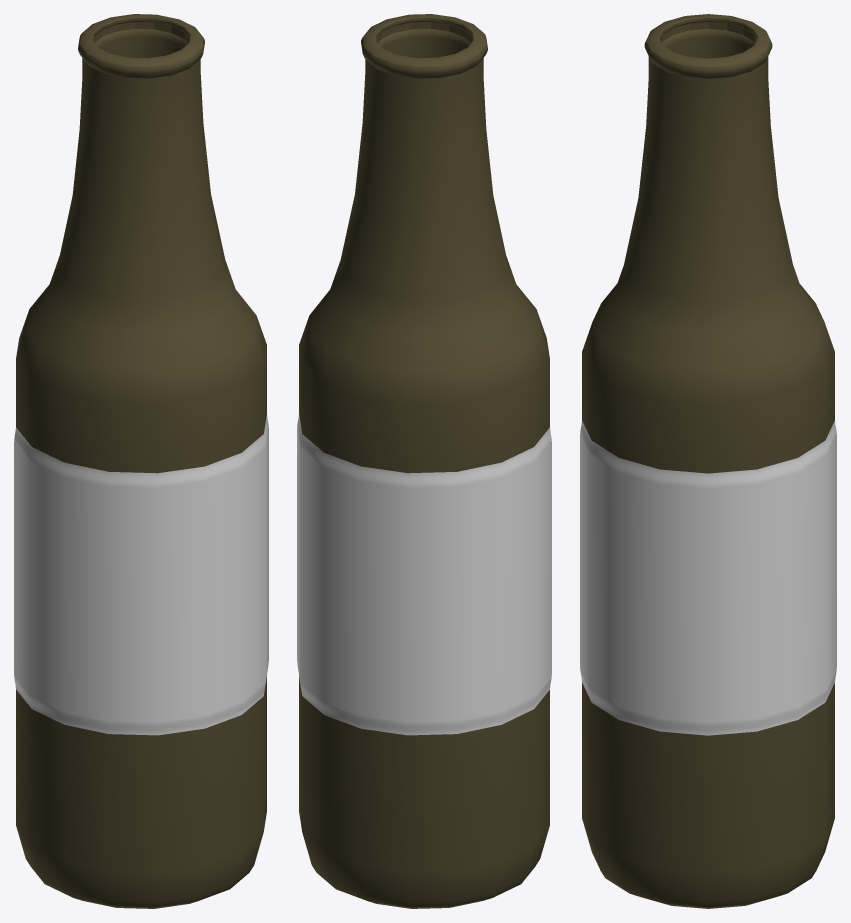
Rendered from Brown Bottle.fbx.
3 views of the same model, side by side, from view 1: azimuth 30°, elevation 25°; view 2: azimuth 150°, elevation 25°; view 3: azimuth 270°, elevation 25° (orthographic).
Parts seen in each view (by area): view 1: pCylinder7; view 2: pCylinder7; view 3: pCylinder7.
Boxes of the visible parts, bbox=[...] form: pCylinder7: bbox=[14, 14, 268, 908]; pCylinder7: bbox=[297, 14, 551, 908]; pCylinder7: bbox=[580, 14, 836, 908].
Bounding box in the file's own units: 0.4761 × 1.7 × 0.4761.
